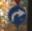turn: (6, 5, 26, 26)
